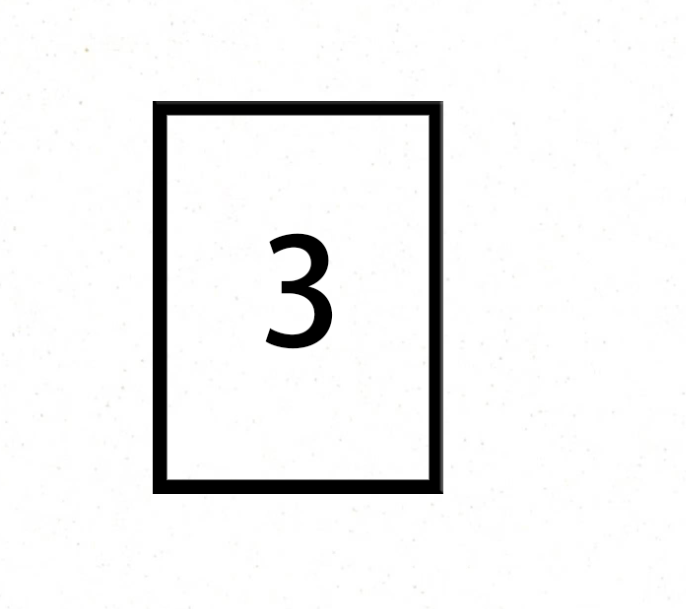three: (239, 207, 365, 383)
